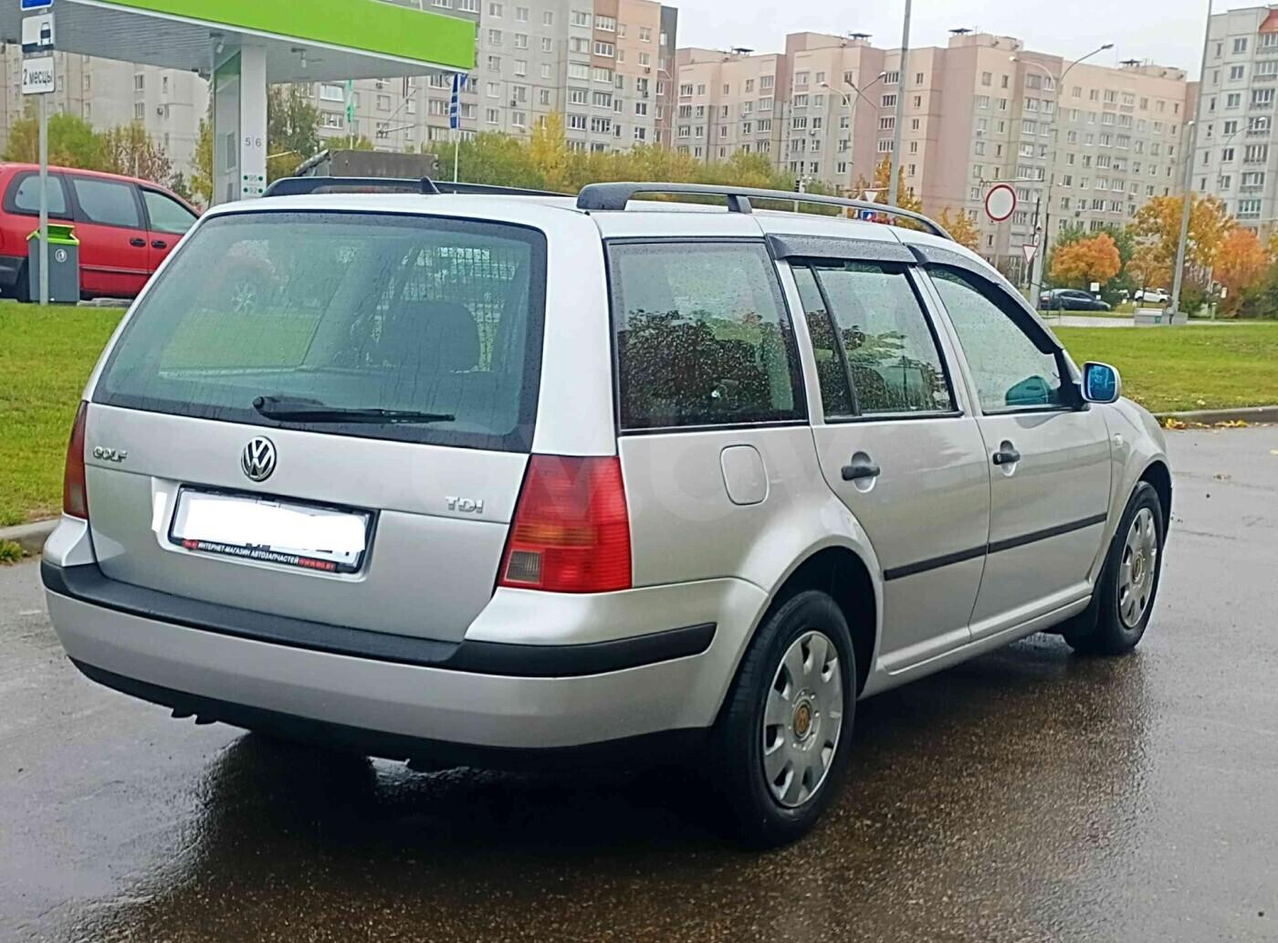Golf_1997-2006: (40, 187, 1175, 819)
